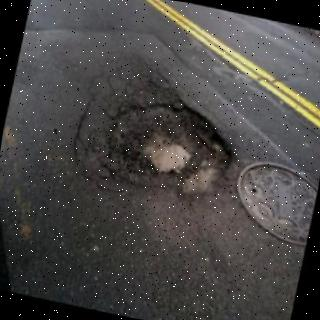pothole: (77, 84, 232, 195)
